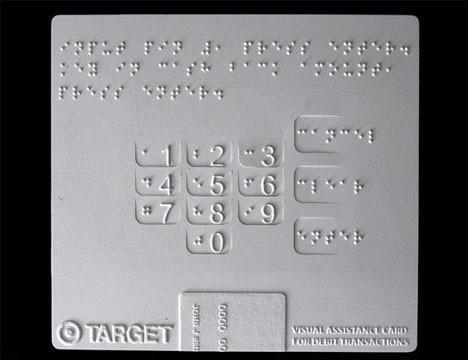Braille: (368, 129, 380, 145), (141, 148, 153, 164), (399, 41, 410, 58), (213, 85, 224, 102), (353, 129, 365, 144), (192, 149, 204, 164), (184, 85, 195, 101), (198, 85, 209, 101), (370, 63, 382, 77), (59, 41, 70, 56), (101, 41, 112, 56), (385, 63, 396, 78), (314, 62, 325, 77), (300, 62, 311, 77), (271, 62, 282, 77), (200, 62, 211, 77), (172, 62, 183, 77), (58, 86, 69, 101), (114, 86, 125, 101), (142, 85, 153, 100), (325, 129, 336, 144), (244, 149, 255, 164), (141, 177, 152, 192), (353, 180, 364, 195), (386, 41, 396, 57), (353, 230, 363, 246), (311, 230, 321, 246), (257, 41, 268, 55), (357, 63, 368, 77), (343, 63, 354, 77), (257, 62, 268, 76), (115, 62, 126, 76), (296, 180, 307, 194), (74, 41, 84, 56), (87, 41, 97, 56), (116, 41, 126, 56), (144, 41, 154, 56), (158, 41, 168, 56), (173, 41, 183, 56), (301, 41, 311, 56), (329, 41, 339, 56), (371, 41, 381, 56), (329, 62, 339, 77), (187, 62, 197, 77), (158, 62, 168, 77), (130, 62, 140, 77), (86, 86, 96, 101), (100, 86, 110, 101), (157, 85, 167, 100), (171, 85, 181, 100), (339, 129, 349, 144), (244, 178, 254, 193), (193, 206, 203, 221), (325, 180, 335, 195), (339, 180, 349, 195), (325, 231, 335, 246), (244, 207, 255, 220), (243, 41, 253, 55), (272, 41, 282, 55), (286, 41, 296, 55), (243, 62, 253, 76), (88, 63, 98, 77), (74, 63, 84, 77), (60, 63, 70, 77), (72, 86, 82, 100), (193, 178, 203, 192), (193, 236, 203, 250), (311, 180, 321, 194), (339, 231, 349, 245), (297, 231, 307, 245), (344, 41, 353, 56), (358, 41, 367, 56), (311, 129, 320, 144), (229, 63, 239, 76), (141, 207, 151, 220), (201, 41, 210, 55), (215, 41, 224, 55), (297, 129, 306, 143)
